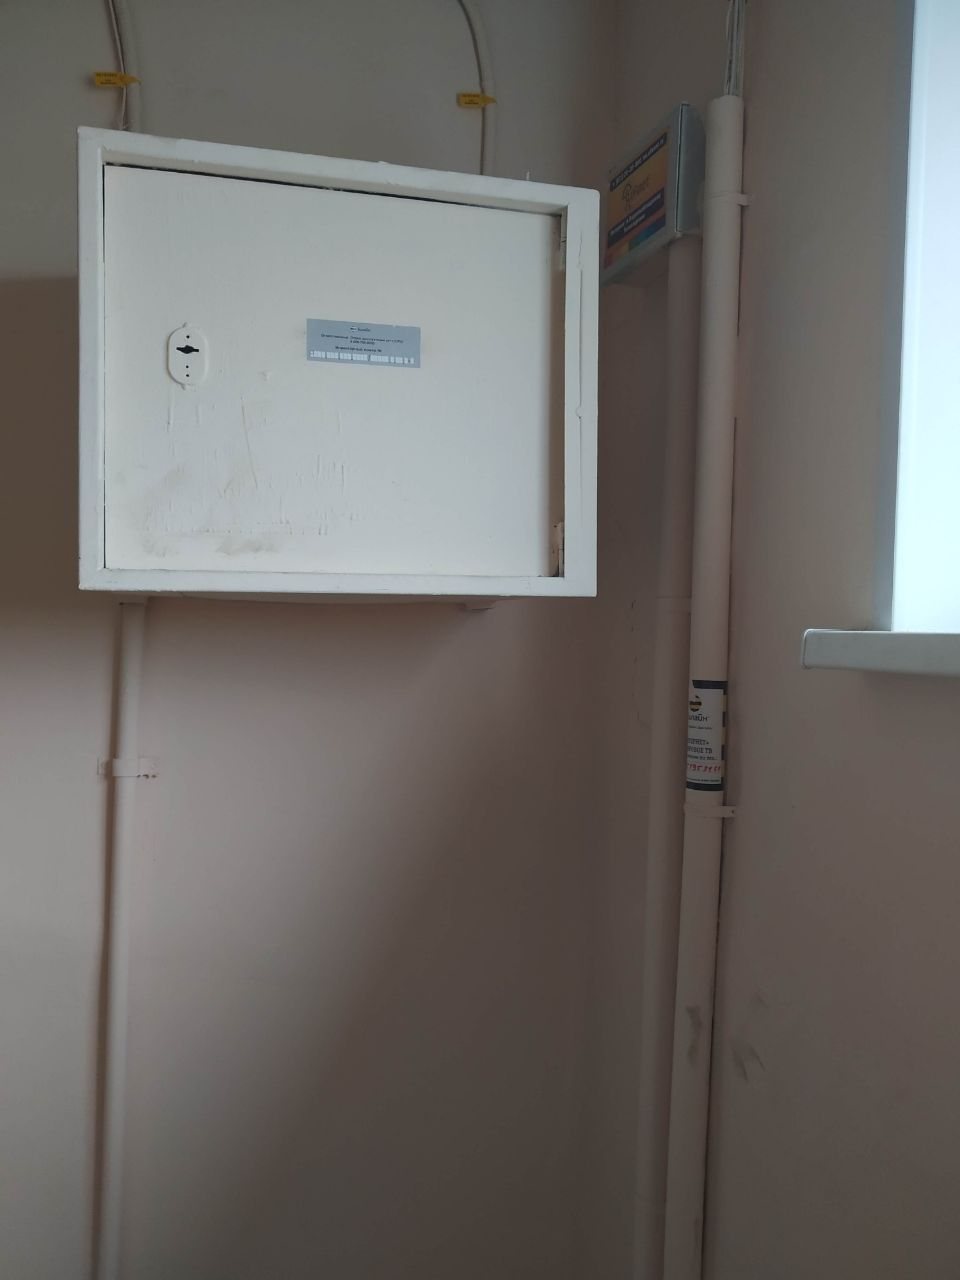shta-9m: (64, 105, 614, 617)
